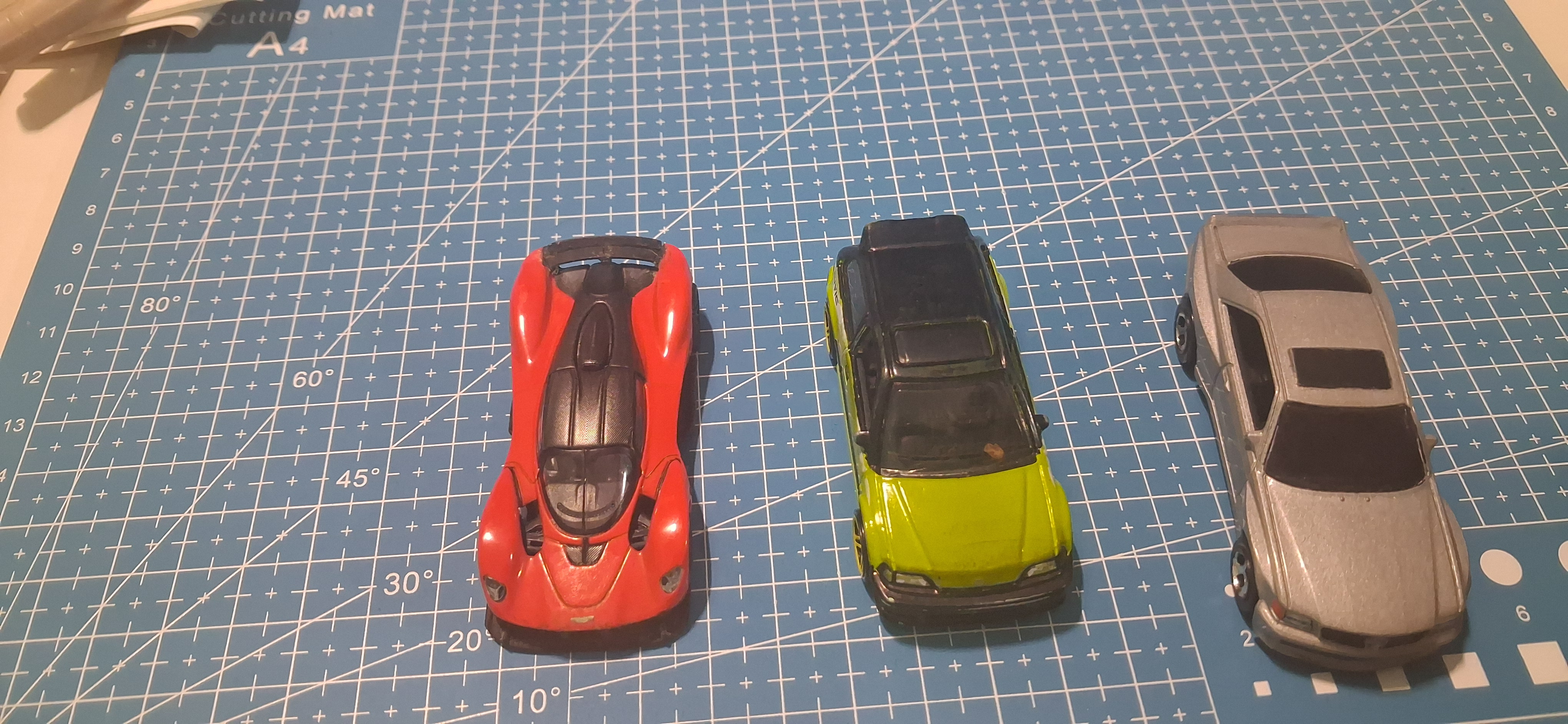Aston_Martin_Valkyrie: (458, 192, 723, 691)
Honda_Civic: (785, 186, 1107, 649)
Mercedes_Benz_560_SEC_AMG: (1156, 183, 1511, 685)
